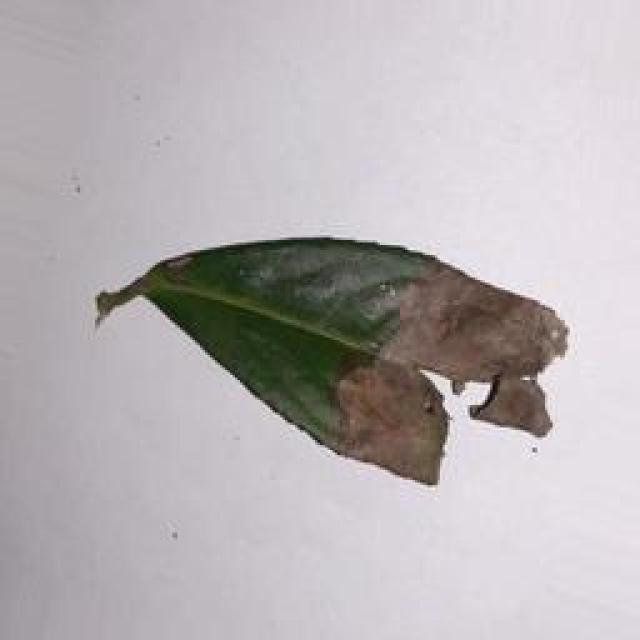Brown Blight: (91, 215, 579, 512)
